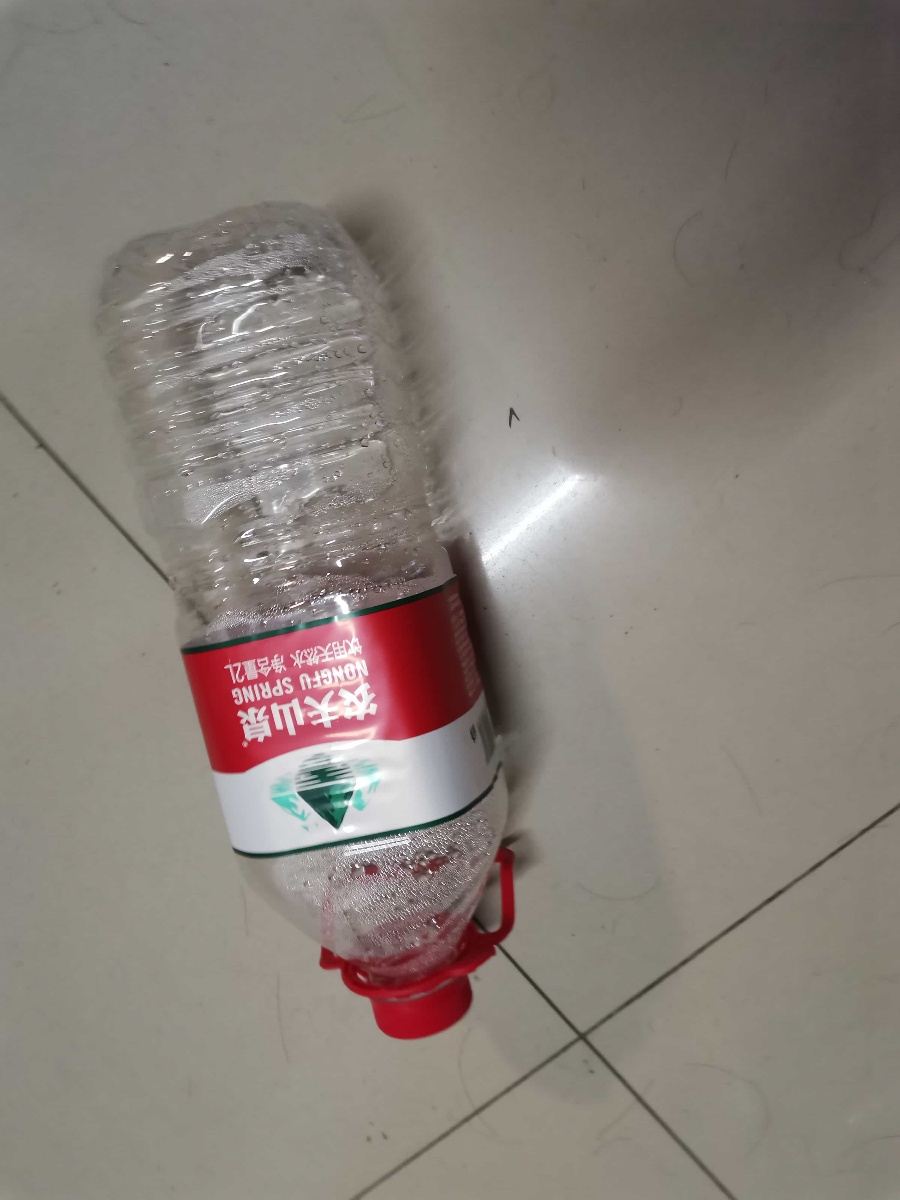plastic bottle: (84, 188, 533, 1052)
